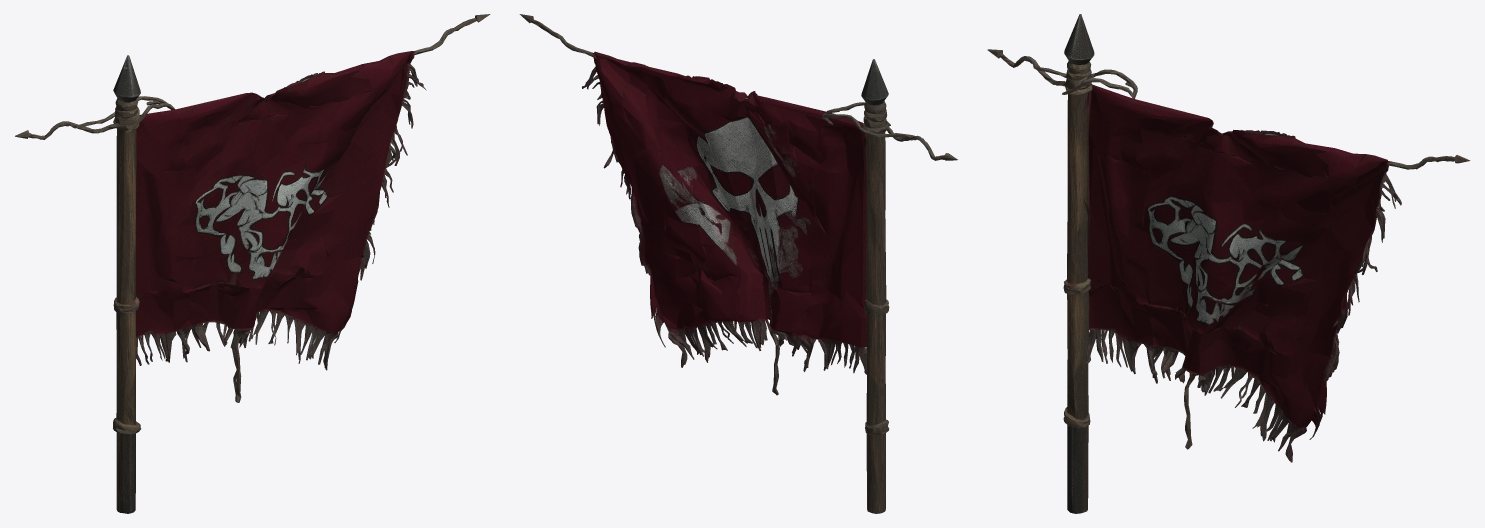
The model's file is decor-banner.glb.
The picture shows the model from 3 angles, left to right: view 1: azimuth 30°, elevation 25°; view 2: azimuth 150°, elevation 25°; view 3: azimuth 330°, elevation 25°; orthographic projection. The views are drawn at different scales.
Bounding box in the file's own units: 1.9 × 1.79 × 0.1913.
Materials: 1 (1 with a texture image).
